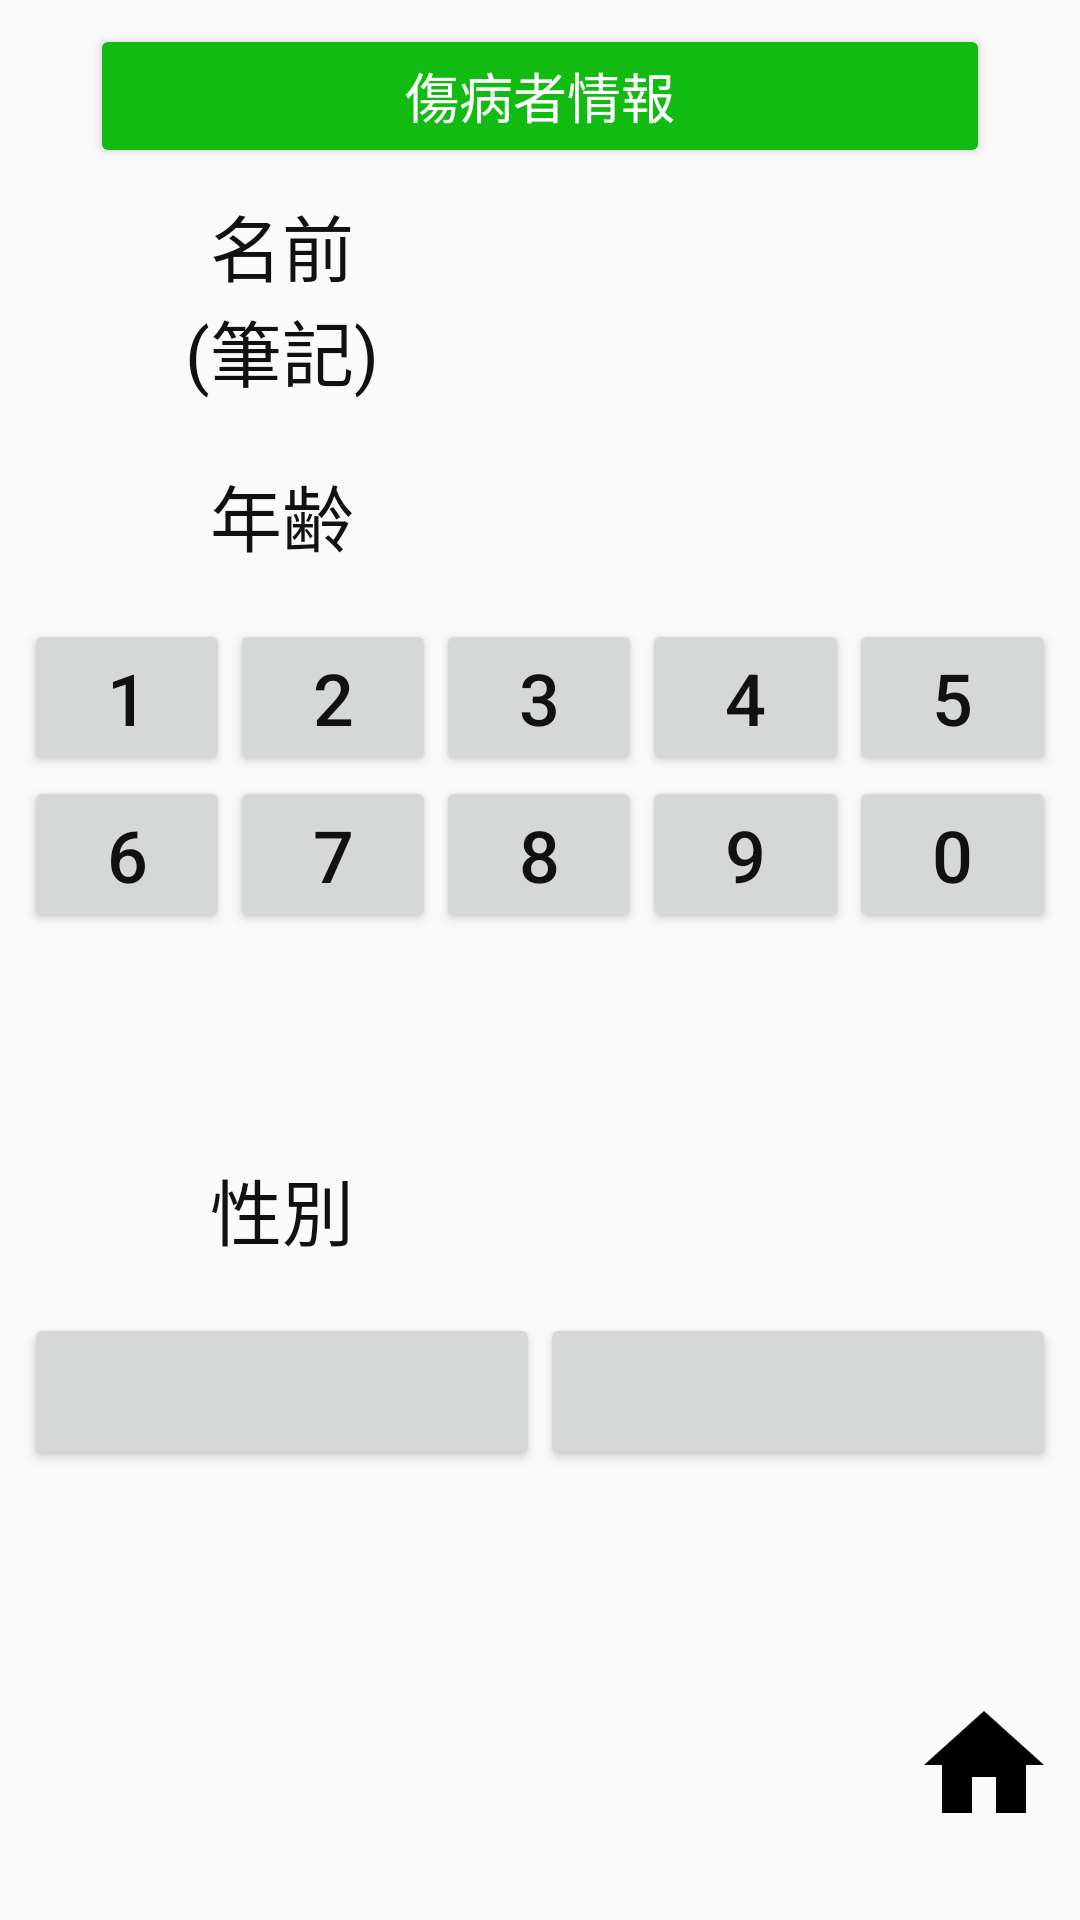

Point at icon controls on the screen. Image size 1080 × 1920, points as point (x, y).
home: point (984, 1762)
